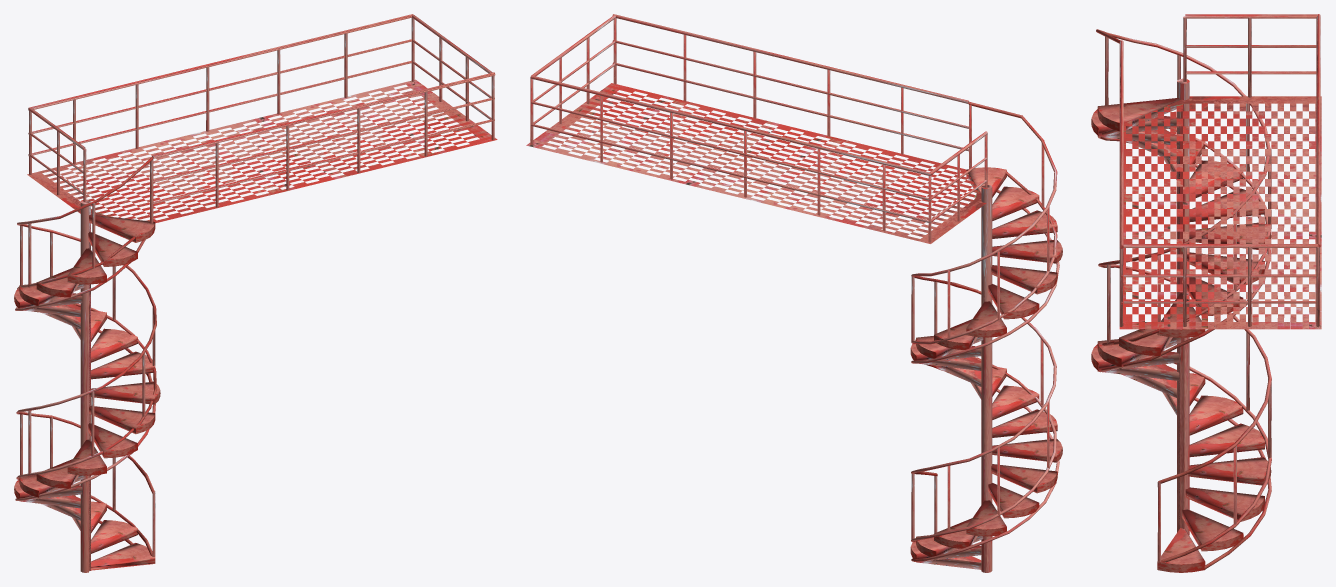
File: Stairs.fbx
The picture shows the model from 3 angles, left to right: view 1: azimuth 30°, elevation 25°; view 2: azimuth 150°, elevation 25°; view 3: azimuth 270°, elevation 25°; orthographic projection. The views are drawn at different scales.
Visible parts, largest first — view 1: polySurface7, polySurface9, pCylinder1, polySurface11, pCylinder29, pCylinder21, pCylinder30, pCylinder31, pCube23, pCube1, pCube11, pCube12 (+15 smaller); view 2: polySurface7, polySurface9, pCylinder1, polySurface11, pCylinder29, pCylinder21, polySurface5, pCylinder30, pCylinder31, pCube19, pCube7, pCylinder22 (+19 smaller); view 3: polySurface7, polySurface9, pCylinder1, polySurface11, pCube4, pCube3, pCube5, pCube23, pCube2, pCube6, polySurface5, pCube1 (+36 smaller).
Boxes of the visible parts, x1=… form: polySurface7: x1=27, y1=79, x2=497, y2=223; polySurface9: x1=102, y1=116, x2=346, y2=216; pCylinder1: x1=80, y1=199, x2=90, y2=572; polySurface11: x1=64, y1=81, x2=495, y2=205; pCylinder29: x1=28, y1=14, x2=412, y2=110; pCylinder21: x1=152, y1=72, x2=495, y2=158; pCylinder30: x1=28, y1=39, x2=411, y2=134; pCylinder31: x1=28, y1=60, x2=412, y2=156; pCube23: x1=89, y1=214, x2=155, y2=242; pCube1: x1=91, y1=543, x2=155, y2=570; pCube11: x1=89, y1=406, x2=155, y2=434; pCube12: x1=89, y1=381, x2=160, y2=404; polySurface7: x1=528, y1=83, x2=986, y2=243; polySurface9: x1=683, y1=121, x2=937, y2=224; pCylinder1: x1=981, y1=184, x2=992, y2=572; polySurface11: x1=526, y1=83, x2=971, y2=224; pCylinder29: x1=530, y1=75, x2=931, y2=175; pCylinder21: x1=612, y1=14, x2=969, y2=103; polySurface5: x1=911, y1=102, x2=1057, y2=292; pCylinder30: x1=531, y1=101, x2=931, y2=200; pCylinder31: x1=531, y1=124, x2=931, y2=223; pCube19: x1=991, y1=265, x2=1057, y2=294; pCube7: x1=991, y1=464, x2=1057, y2=493; pCylinder22: x1=612, y1=40, x2=968, y2=128; polySurface7: x1=1119, y1=96, x2=1321, y2=329; polySurface9: x1=1123, y1=141, x2=1321, y2=239; pCylinder1: x1=1177, y1=78, x2=1189, y2=535; polySurface11: x1=1122, y1=96, x2=1321, y2=329; pCube4: x1=1188, y1=457, x2=1271, y2=485; pCube3: x1=1185, y1=487, x2=1264, y2=521; pCube5: x1=1189, y1=423, x2=1264, y2=457; pCube23: x1=1097, y1=98, x2=1181, y2=131; pCube2: x1=1182, y1=509, x2=1243, y2=551; pCube6: x1=1189, y1=395, x2=1243, y2=435; polySurface5: x1=1096, y1=29, x2=1270, y2=264; pCube1: x1=1157, y1=528, x2=1205, y2=572.
Size of the model in its own units: 613 by 552 by 222.
Materials: 1 (1 with a texture image).
